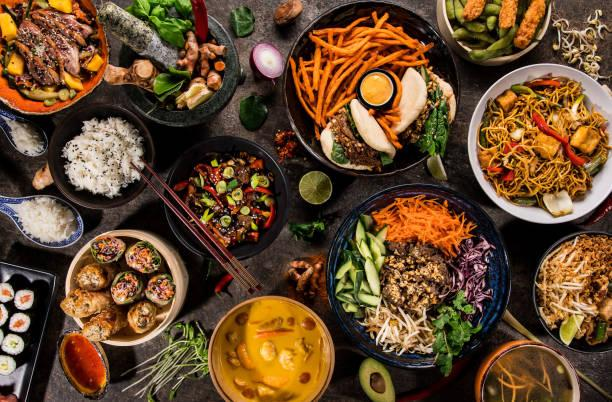Braised Crucian Carp: (326, 183, 507, 369), (280, 1, 451, 178), (468, 62, 611, 225), (163, 137, 287, 261), (115, 8, 241, 129), (63, 230, 186, 345), (207, 295, 334, 401), (0, 0, 106, 115), (522, 225, 612, 355)
